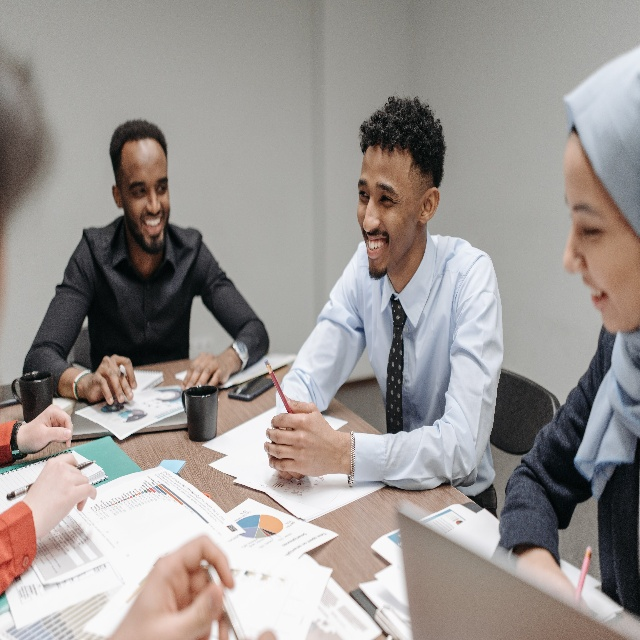Sin_guantes: (130, 530, 233, 640), (263, 394, 330, 479), (36, 449, 95, 528), (89, 351, 138, 407), (24, 401, 73, 453), (181, 348, 229, 391)
